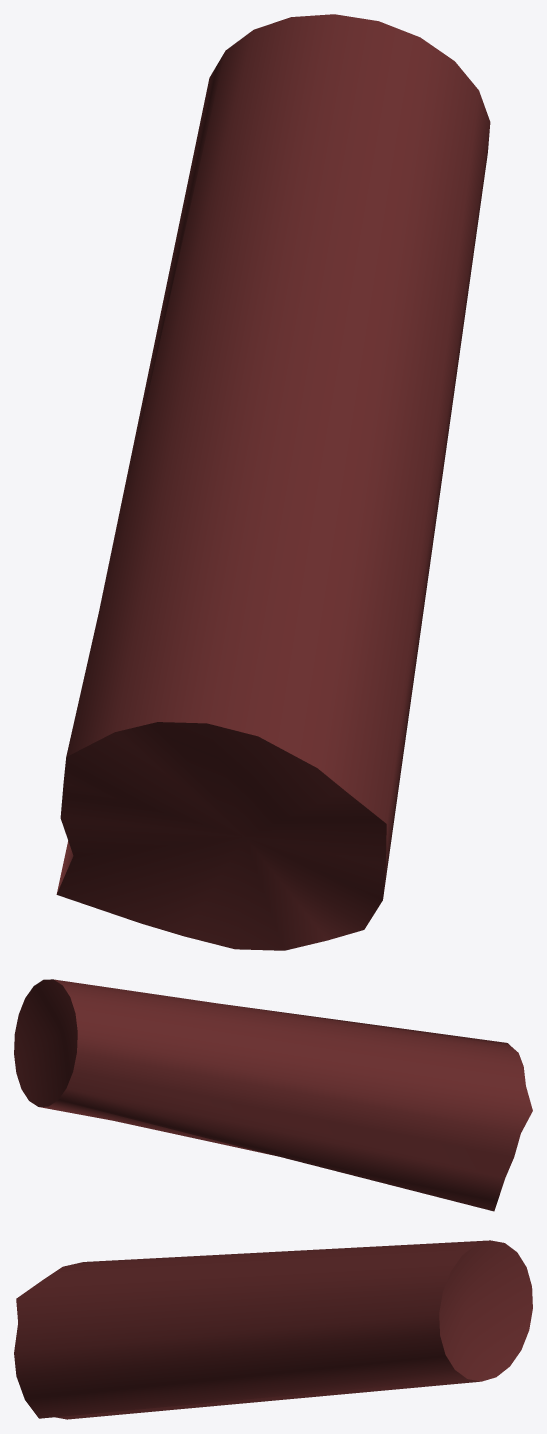
The model's file is madera.fbx.
The picture shows the model from 3 angles, top to bottom: view 1: azimuth 30°, elevation 25°; view 2: azimuth 150°, elevation 25°; view 3: azimuth 270°, elevation 25°; orthographic projection. The views are drawn at different scales.
Visible parts, largest first — view 1: pCylinder1; view 2: pCylinder1; view 3: pCylinder1.
Boxes of the visible parts, x1,y1,x2,y2 form: pCylinder1: (56, 14, 490, 950); pCylinder1: (14, 979, 532, 1211); pCylinder1: (14, 1240, 532, 1419).
Bounding box in the file's own units: 2.34 × 1.69 × 2.74.
